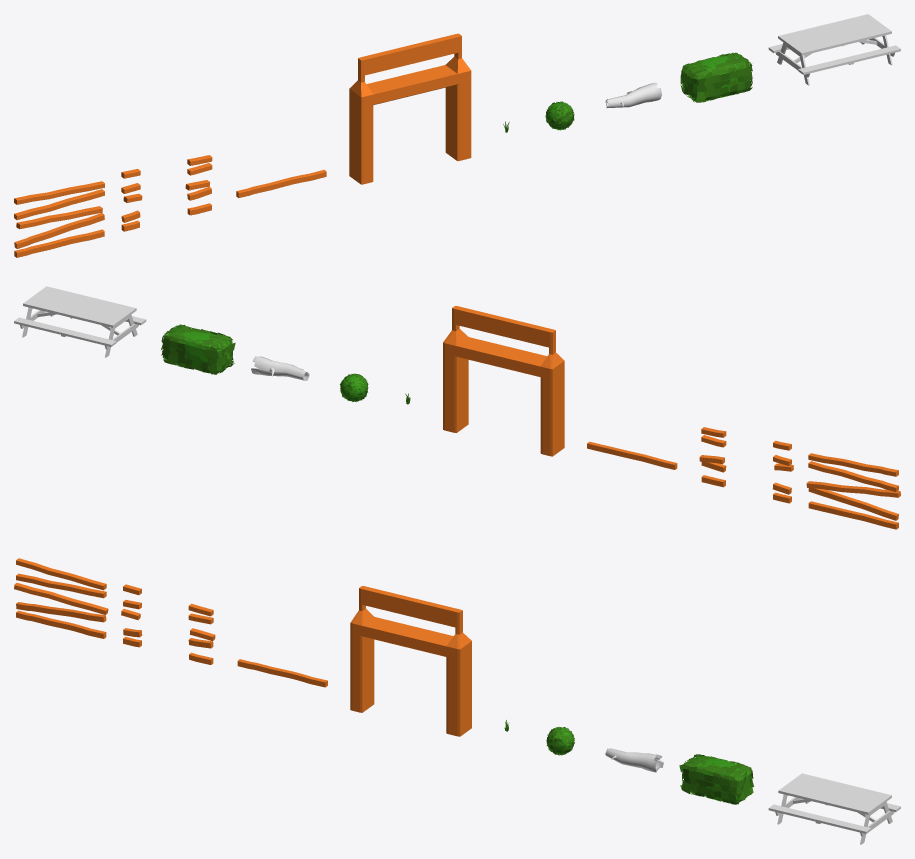
Rendered from AssetsEntorno 1.fbx.
The picture shows the model from 3 angles, top to bottom: view 1: azimuth 30°, elevation 25°; view 2: azimuth 150°, elevation 25°; view 3: azimuth 330°, elevation 25°; orthographic projection.
Parts seen in each view (by area): view 1: door_low, Cube.006, beams_low, square_bush_low, broken_beams_low, log_low, beam_low, circle_bush_low; view 2: door_low, Cube.006, beams_low, square_bush_low, broken_beams_low, log_low, beam_low, circle_bush_low; view 3: door_low, Cube.006, beams_low, square_bush_low, broken_beams_low, log_low, beam_low, circle_bush_low.
Part boxes in pixels (x1,y1,x2,y2): door_low: (349,33,471,184); Cube.006: (768,14,900,85); beams_low: (14,181,104,257); square_bush_low: (680,52,752,102); broken_beams_low: (121,155,212,231); log_low: (605,82,661,108); beam_low: (236,169,326,197); circle_bush_low: (545,101,574,130); door_low: (443,306,564,456); Cube.006: (14,286,146,357); beams_low: (806,453,900,529); square_bush_low: (161,324,235,374); broken_beams_low: (699,427,793,503); log_low: (251,356,309,380); beam_low: (587,441,677,469); circle_bush_low: (340,373,368,401); door_low: (350,586,471,736); Cube.006: (768,773,900,844); beams_low: (14,558,108,638); square_bush_low: (679,754,753,804); broken_beams_low: (121,584,215,664); log_low: (605,748,663,772); beam_low: (237,659,327,687); circle_bush_low: (546,727,574,755).
Bounding box in the file's own units: 3091 × 414 × 215.
